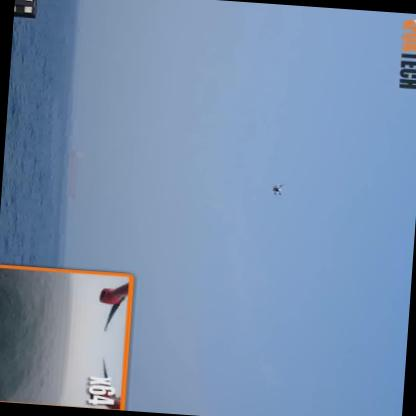drone: (268, 180, 289, 201)
